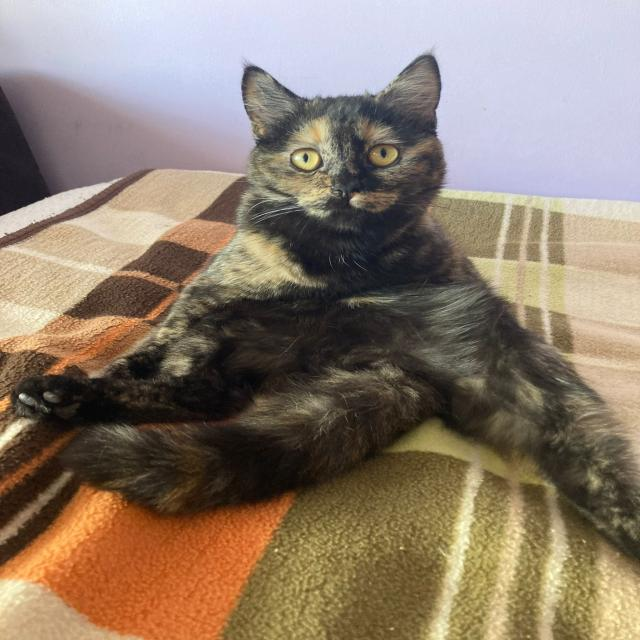authorized: (10, 48, 639, 563)
